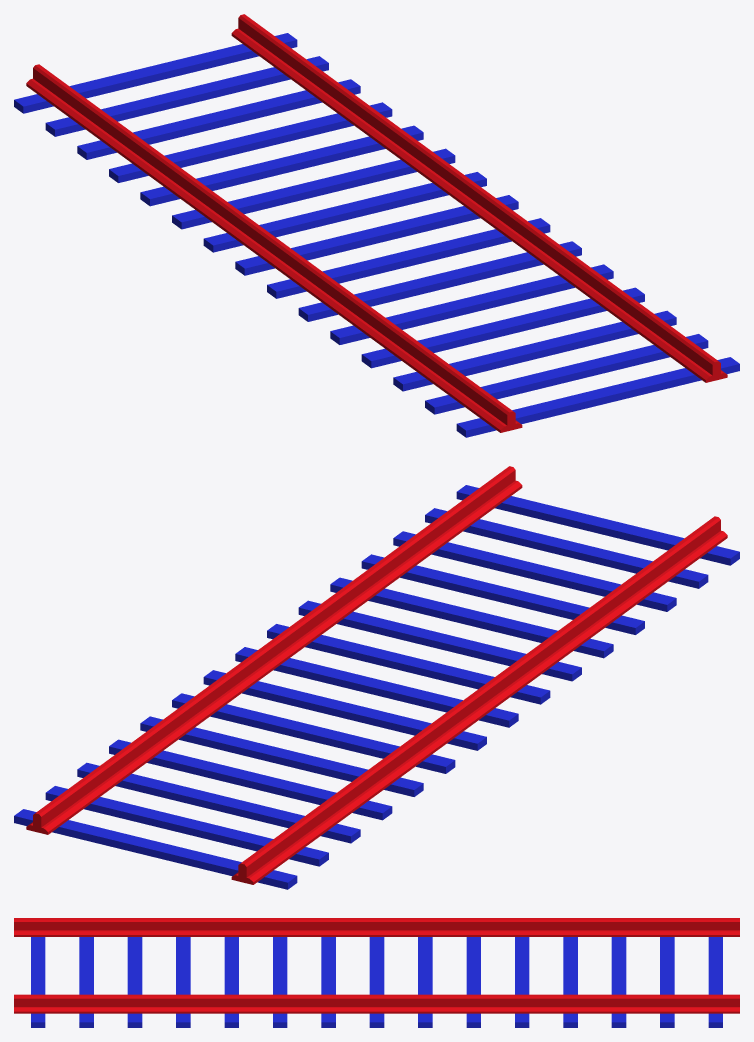
Rendered from Tracks.fbx.
The picture shows the model from 3 angles, top to bottom: view 1: azimuth 30°, elevation 25°; view 2: azimuth 150°, elevation 25°; view 3: azimuth 270°, elevation 25°; orthographic projection. The views are drawn at different scales.
Parts seen in each view (by area): view 1: Tracks; view 2: Tracks; view 3: Tracks.
Boxes of the visible parts, x1=… form: Tracks: x1=14, y1=14, x2=739, y2=437; Tracks: x1=14, y1=466, x2=739, y2=889; Tracks: x1=14, y1=918, x2=739, y2=1027.
Size of the model in its own units: 200 by 17.92 by 600.
